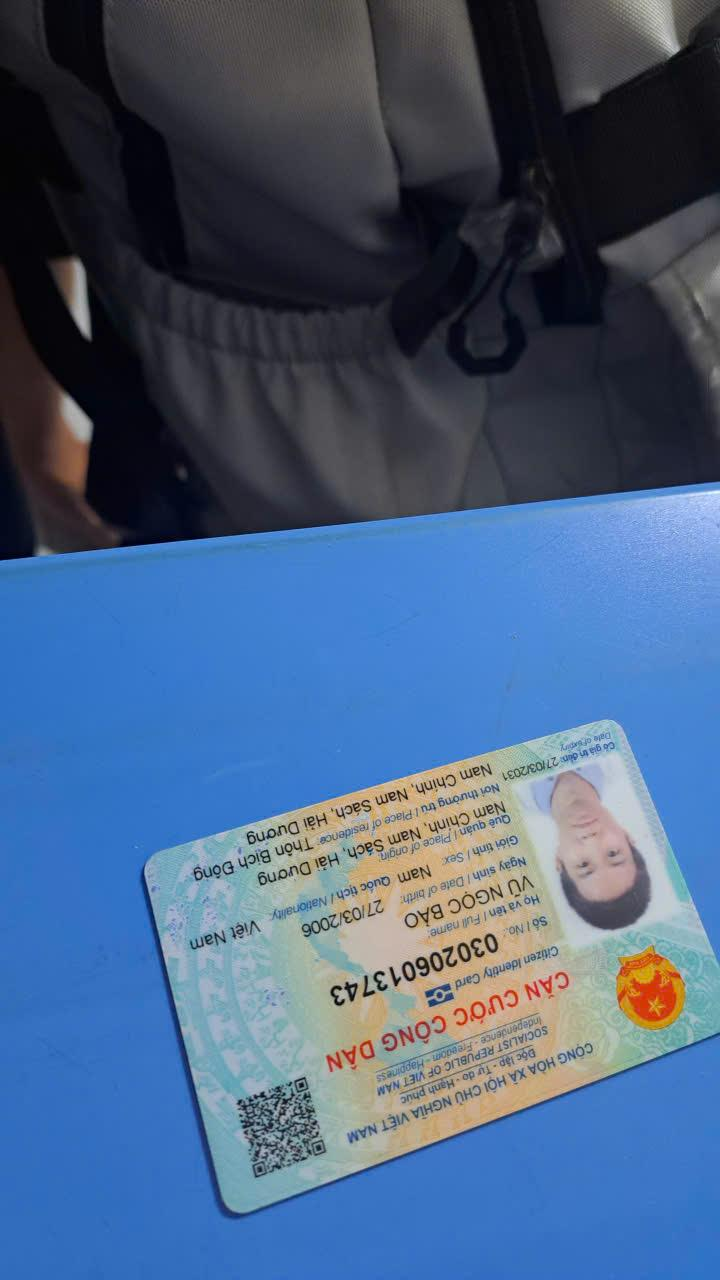cccd: (122, 707, 720, 1228)
